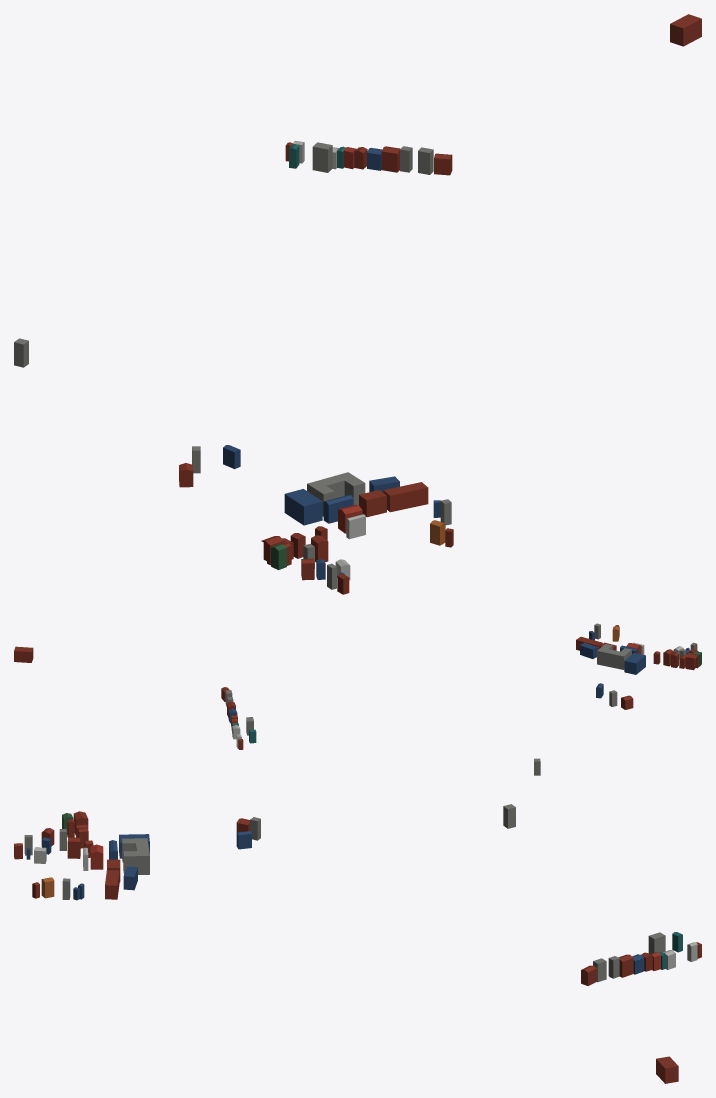
File: near-15-27350-14877.7be0913f.glb
3 renders of one model, top to bottom at view 1: azimuth 30°, elevation 25°; view 2: azimuth 150°, elevation 25°; view 3: azimuth 270°, elevation 25°, orthographic. The views are drawn at different scales.
Size of the model in its own units: 859 by 118 by 773.
